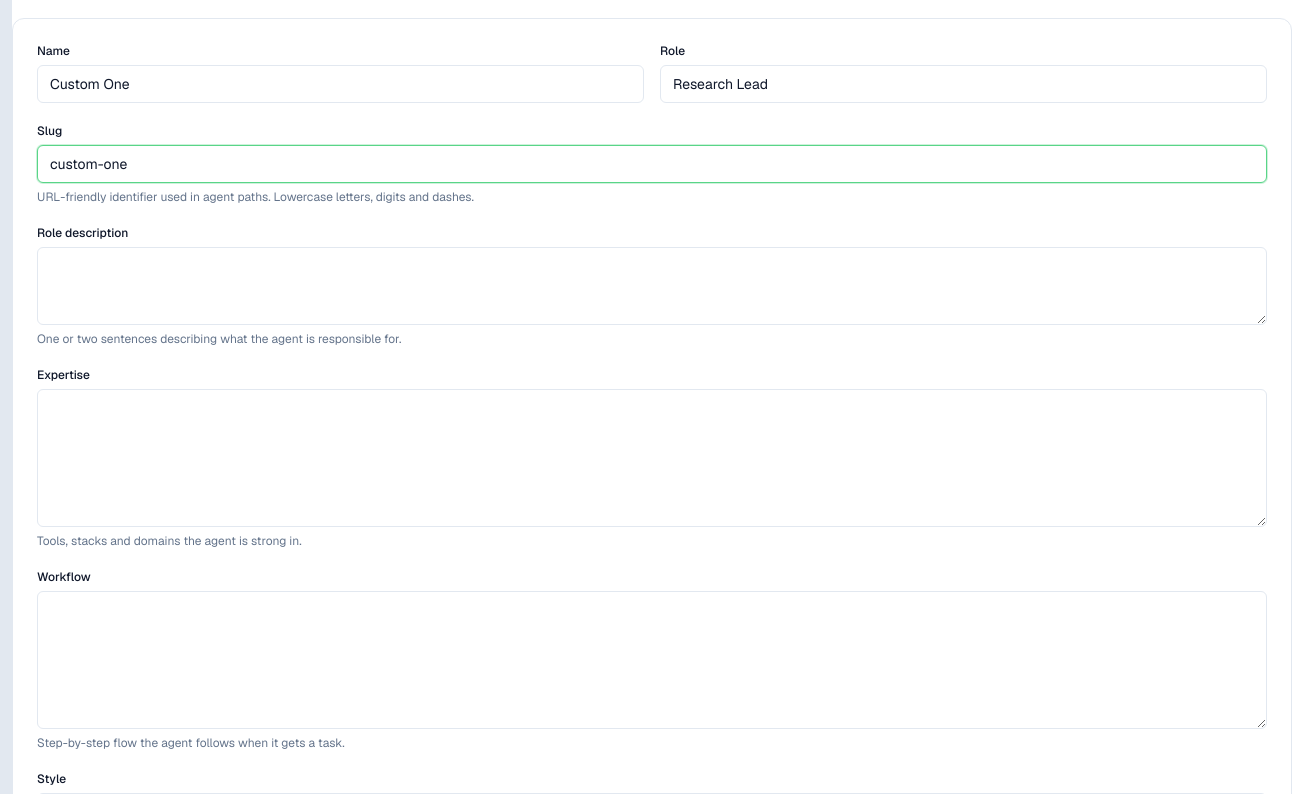
Test case: AgentFromScratchFormPage › should render an inline alert when the server returns 409 slug conflict
Earlier steps of the test are not shown.
Type "Keeps all research threads connected." into the text box labelled "Role description" at (652, 286), box [37, 247, 1267, 325]
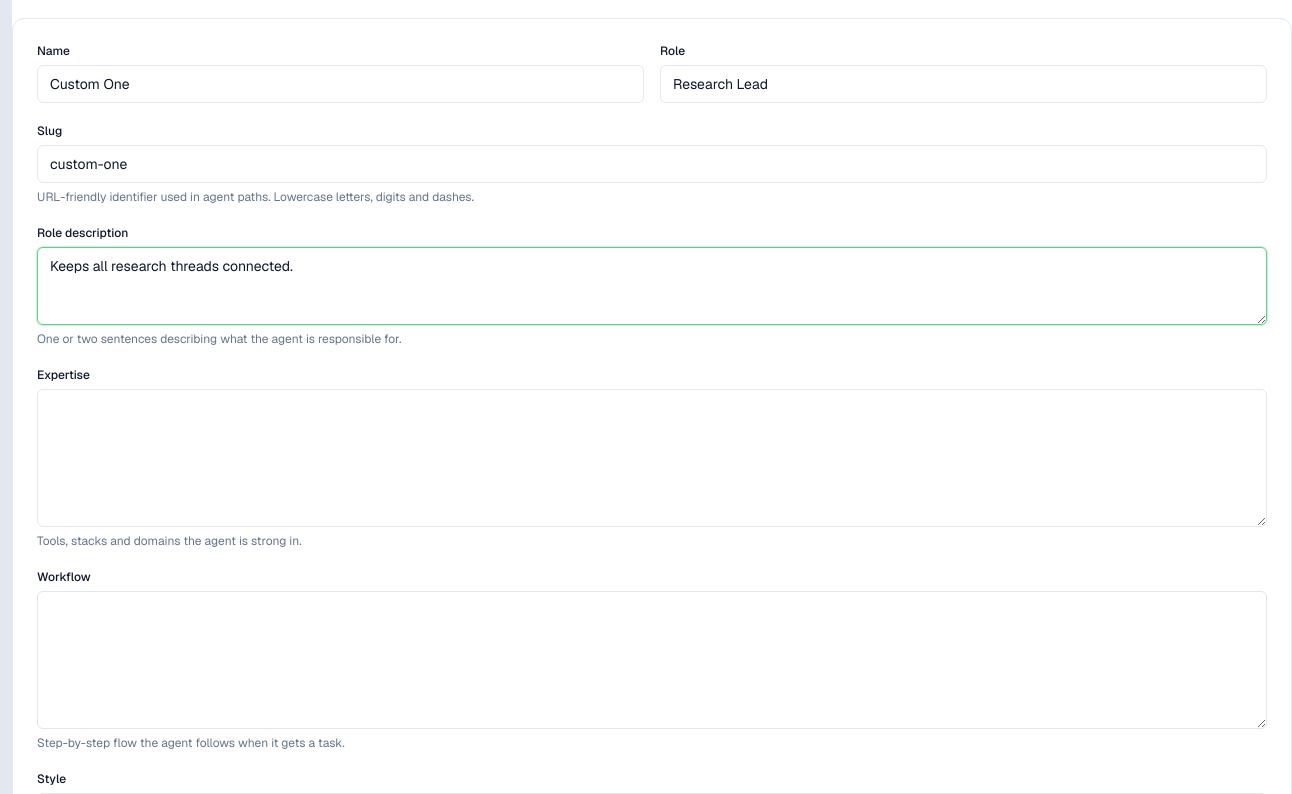
Type "Discovery, interviews, synthesis." into the text box labelled "Expertise" at (652, 458), box [37, 389, 1267, 527]
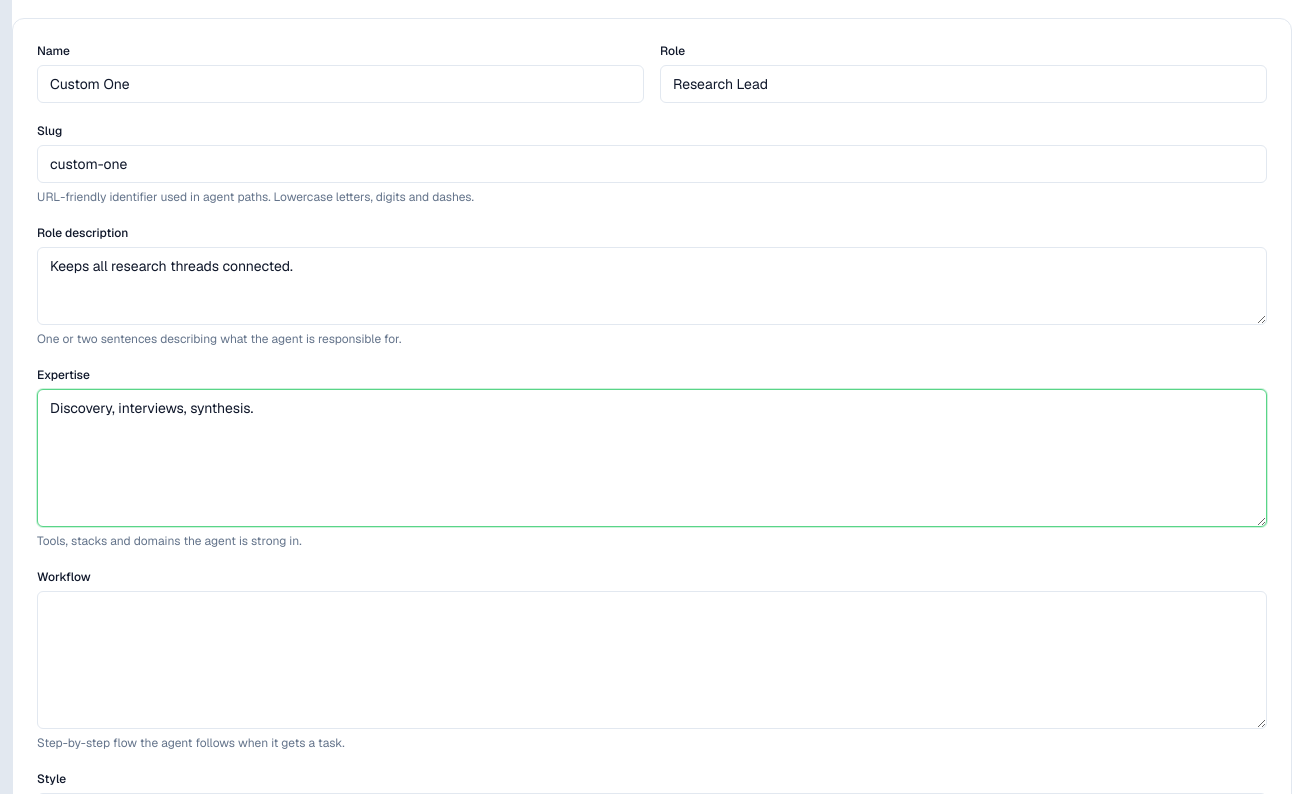
Type "Plan, interview, synthesize, report." into the text box labelled "Workflow" at (652, 660), box [37, 591, 1267, 729]
(page scrolled)
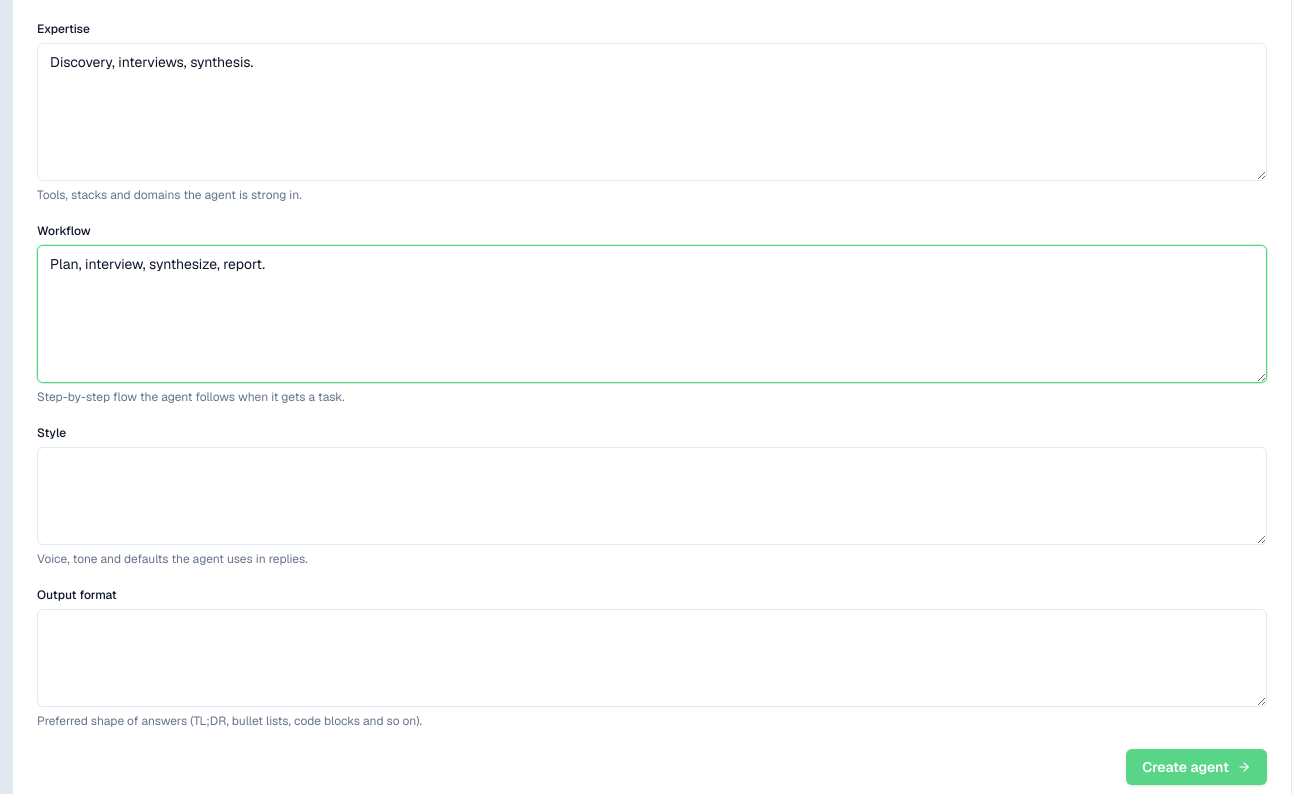
Type "Curious and precise." into the text box labelled "Style" at (652, 496), box [37, 447, 1267, 545]
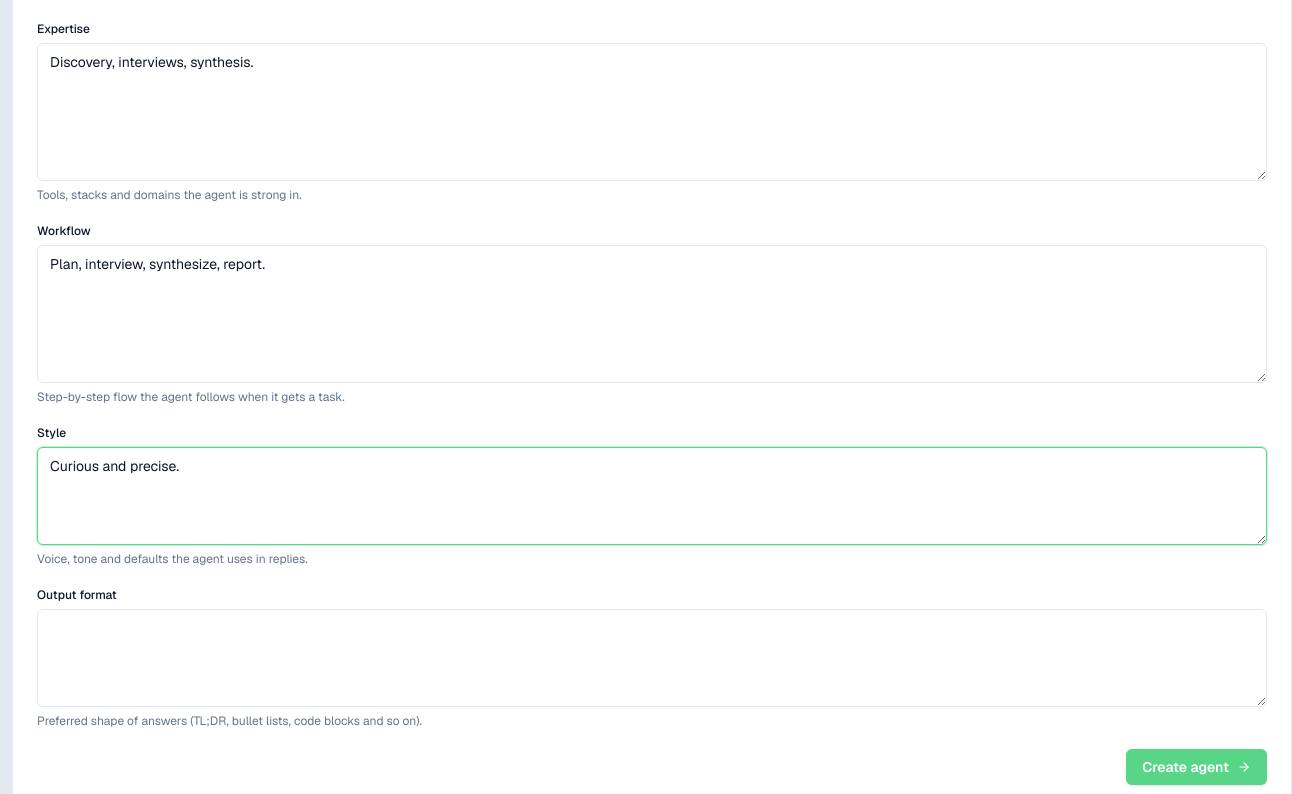
Type "TL;DR + highlights + raw notes." into the text box labelled "Output format" at (652, 658), box [37, 609, 1267, 707]
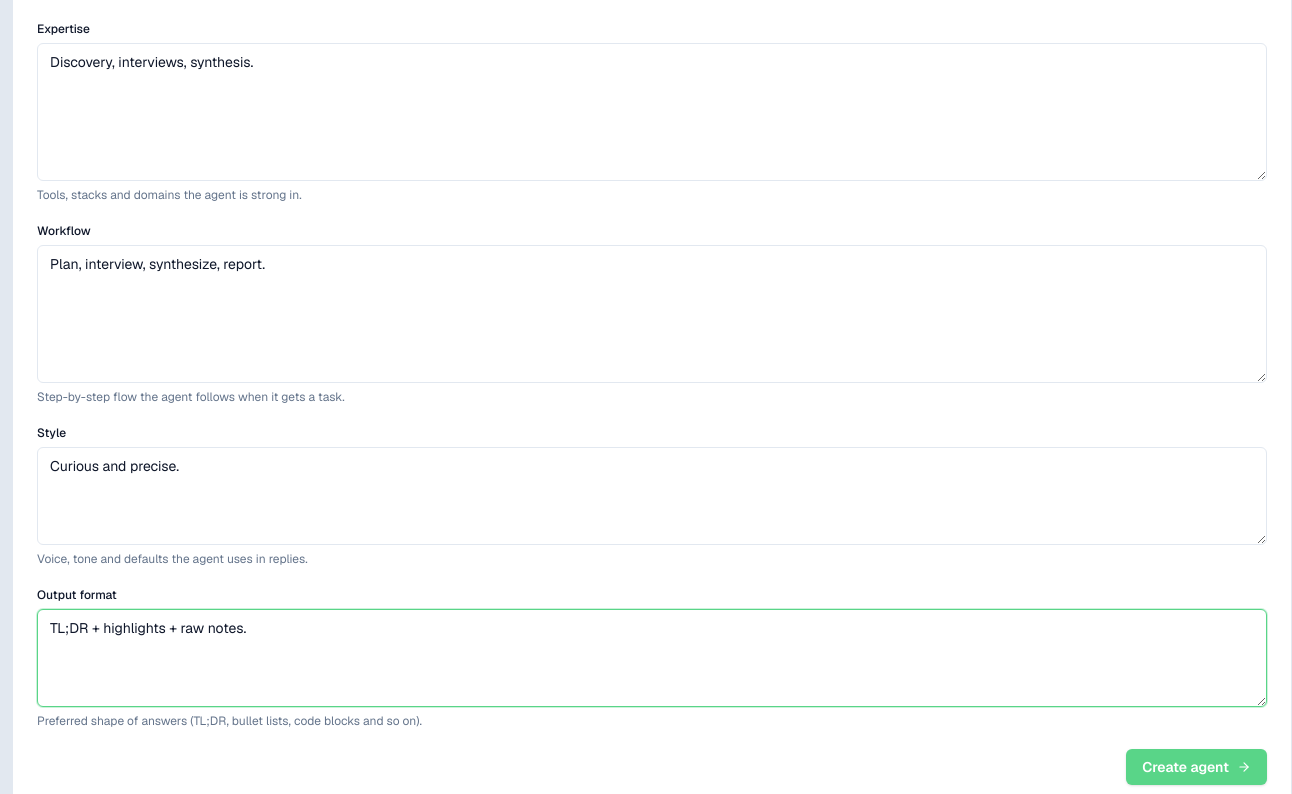
Click the button "Create agent" at (1197, 767), box [1126, 749, 1267, 785]
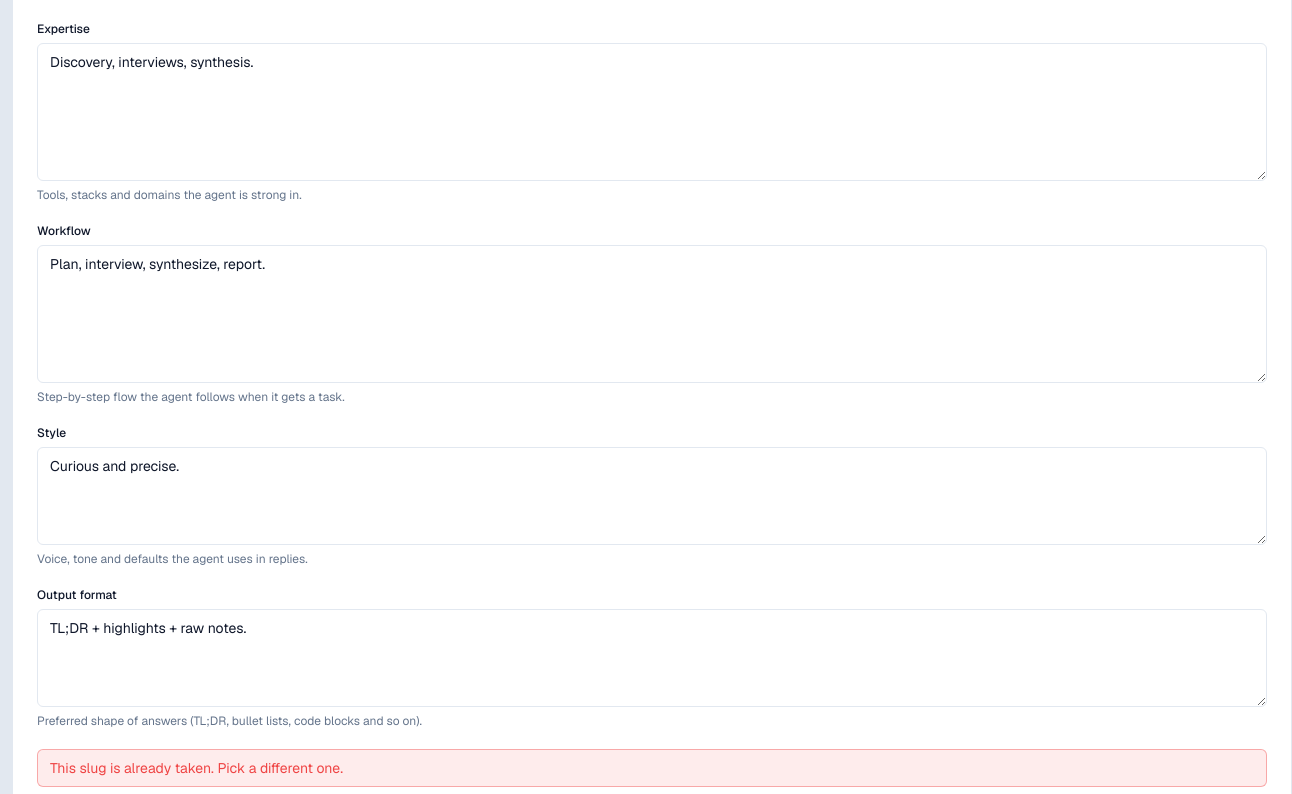
Expected: the text "This slug is already taken. Pick a different one." is shown, [37, 749, 1267, 787]
